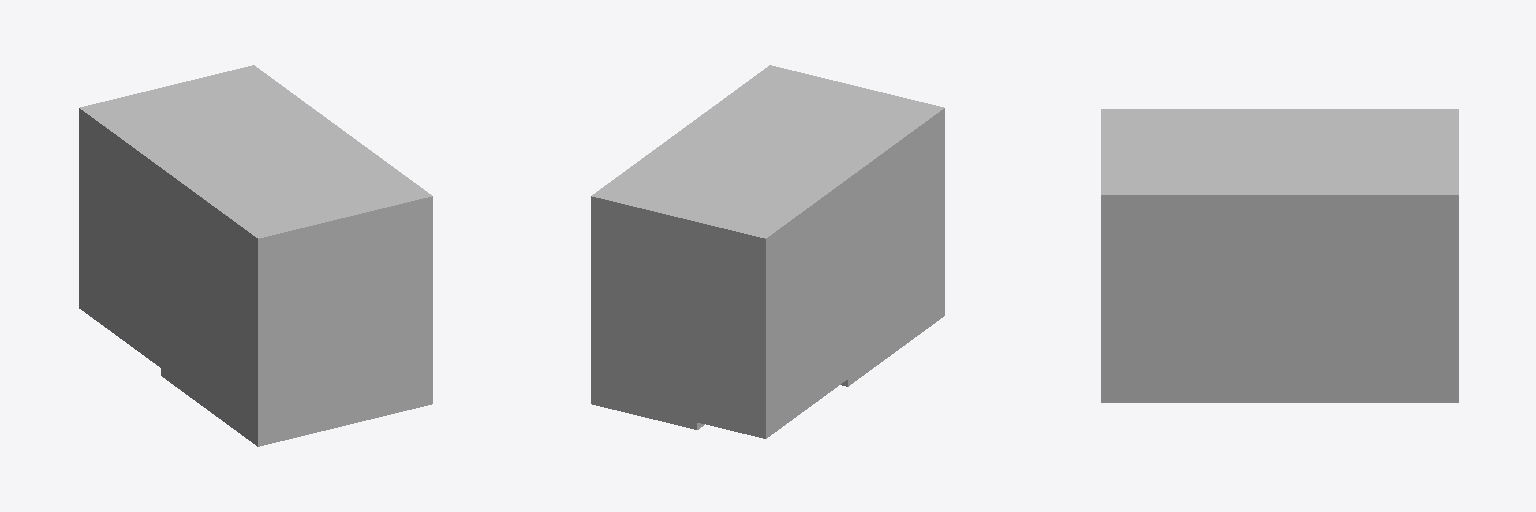
Rendered from Internat.obj.
3 views of the same model, side by side, from view 1: azimuth 30°, elevation 25°; view 2: azimuth 150°, elevation 25°; view 3: azimuth 270°, elevation 25° (orthographic).
Parts seen in each view (by area): view 1: Room; view 2: Room; view 3: Room.
Part boxes in pixels (x1,y1,x2,y2): Room: (79, 65, 432, 446); Room: (591, 65, 944, 438); Room: (1101, 109, 1458, 402).
Bounding box in the file's own units: 2.2 × 2.5 × 3.9.